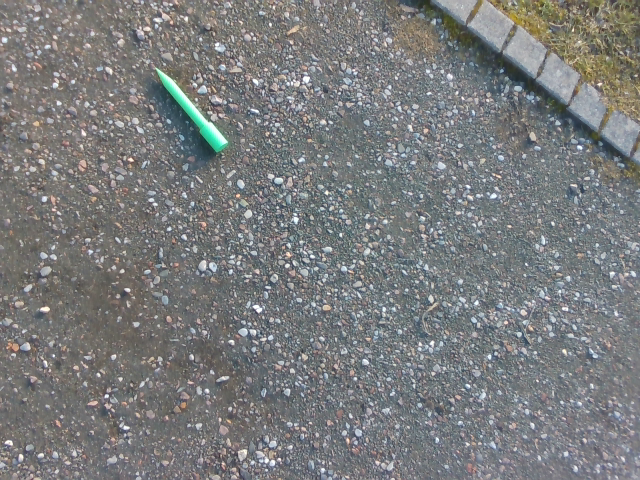Probe: (149, 61, 234, 159)
